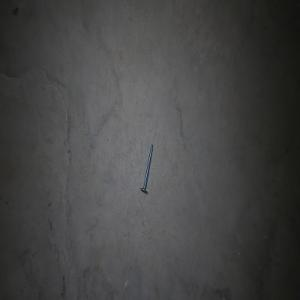Bolt: (139, 142, 153, 193)
